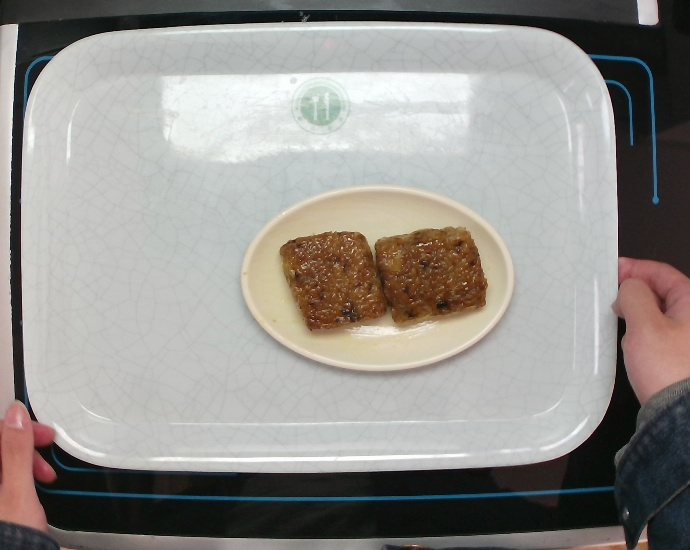JYsf-Tuo_Yuan_Wan: (233, 177, 520, 379)
